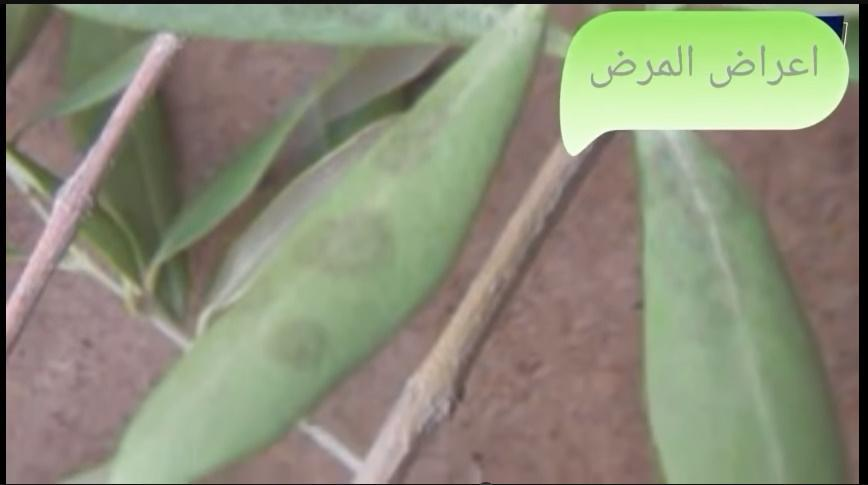OlivePeacockSpot: (114, 7, 552, 482)
